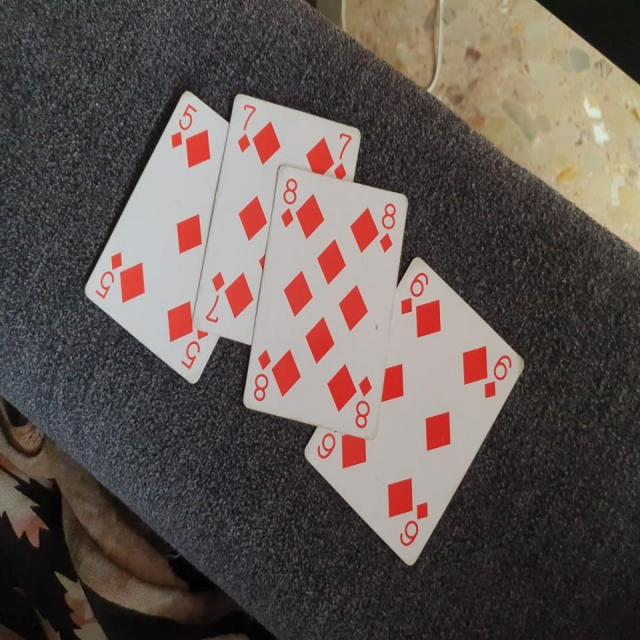5 Diamonds: (79, 89, 230, 395)
6 Diamonds: (303, 255, 524, 568)
7 Diamonds: (192, 94, 360, 347)
8 Diamonds: (242, 165, 408, 442)
